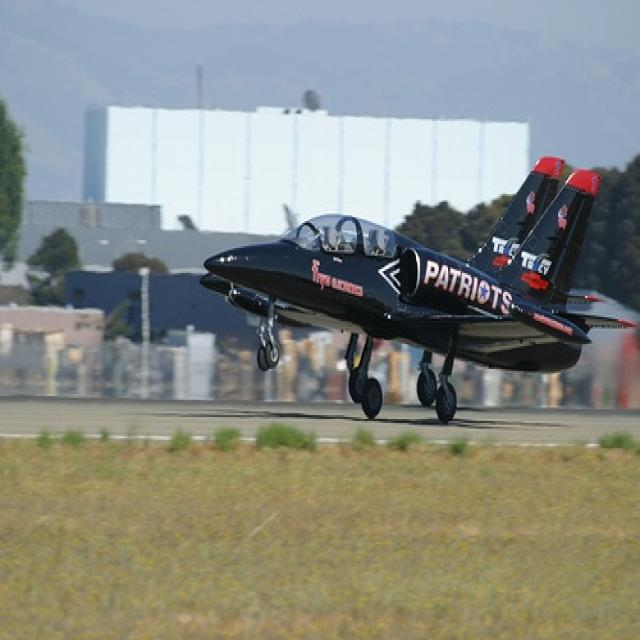aeroplane: (204, 148, 634, 421)
